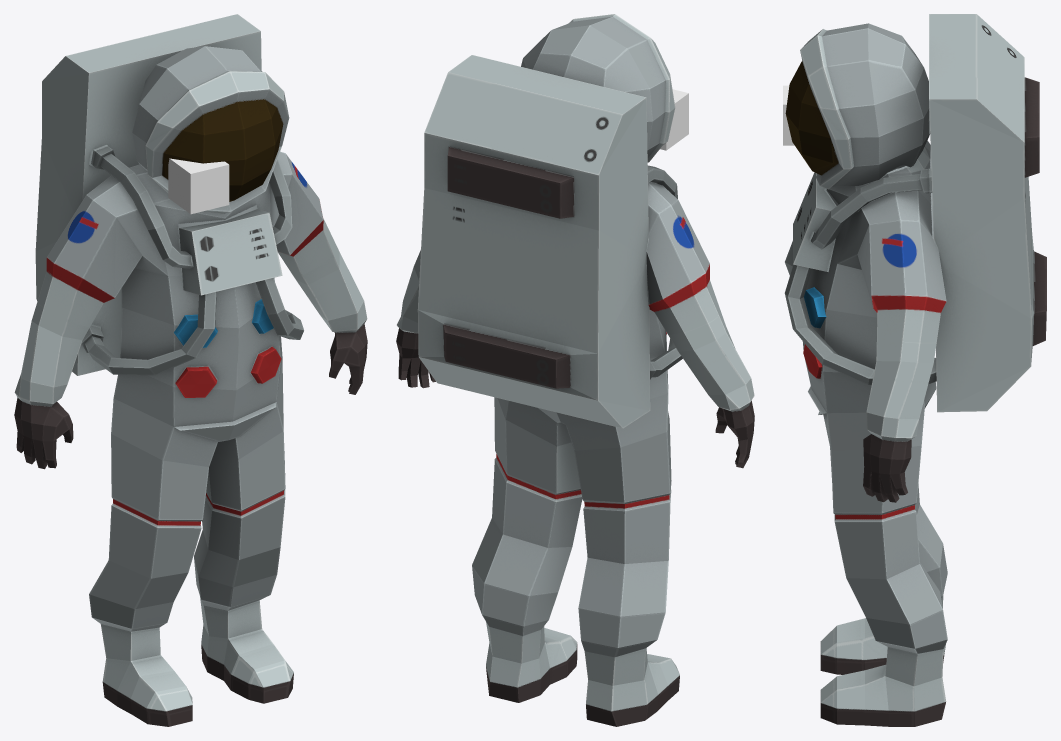
The model's file is astr1.glb.
3 renders of one model, left to right at view 1: azimuth 30°, elevation 25°; view 2: azimuth 150°, elevation 25°; view 3: azimuth 270°, elevation 25°, orthographic.
Visible parts, largest first — view 1: Astronaut_mesh, Helmet; view 2: Astronaut_mesh, Helmet; view 3: Astronaut_mesh.
Boxes of the visible parts, left/top/right/bottom form: Astronaut_mesh: left=14, top=14, right=367, bottom=726; Helmet: left=168, top=158, right=229, bottom=214; Astronaut_mesh: left=396, top=14, right=754, bottom=726; Helmet: left=660, top=89, right=688, bottom=150; Astronaut_mesh: left=784, top=14, right=1046, bottom=726.
Size of what is drawn, in the model's own units: 2.24 by 4.02 by 1.46.
2 materials, 1 textured.
